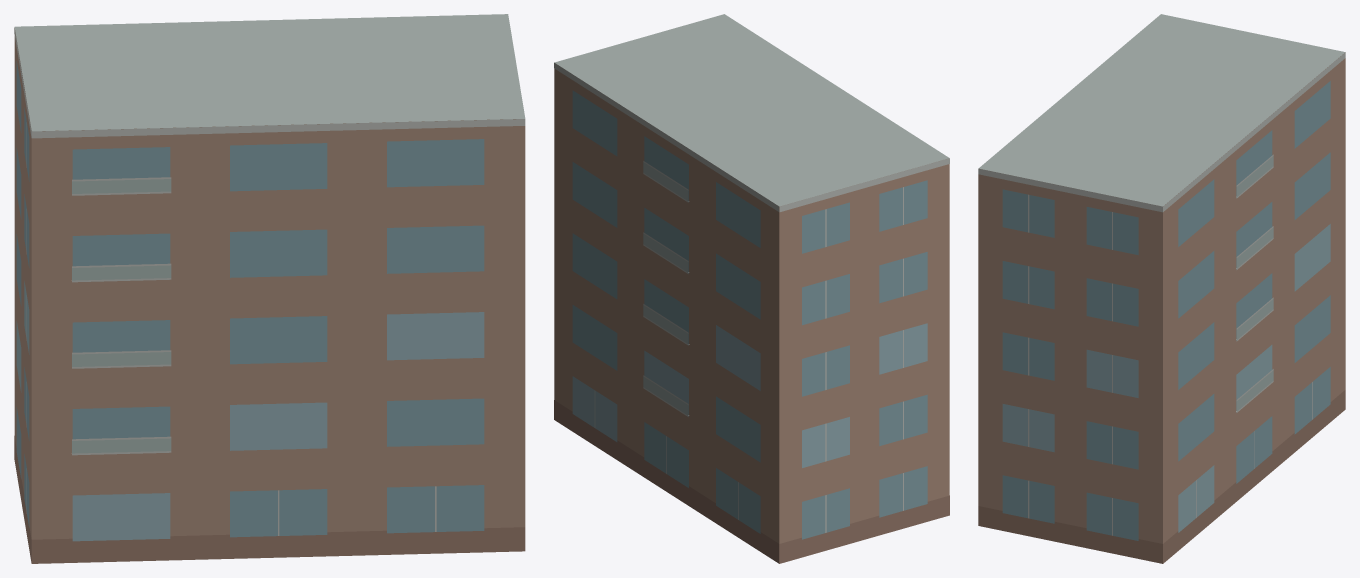
The model's file is survey-upis-32884385.glb.
3 views of the same model, side by side, from view 1: azimuth 30°, elevation 25°; view 2: azimuth 150°, elevation 25°; view 3: azimuth 270°, elevation 25° (orthographic). The views are drawn at different scales.
Visible parts, largest first — view 1: survey-upis-32884385.tmp; view 2: survey-upis-32884385.tmp; view 3: survey-upis-32884385.tmp.
Boxes of the visible parts, <box> form: survey-upis-32884385.tmp: <box>14,14,525,563</box>; survey-upis-32884385.tmp: <box>554,14,949,563</box>; survey-upis-32884385.tmp: <box>978,14,1345,563</box>.
Bounding box in the file's own units: 17.34 × 15 × 13.98.
